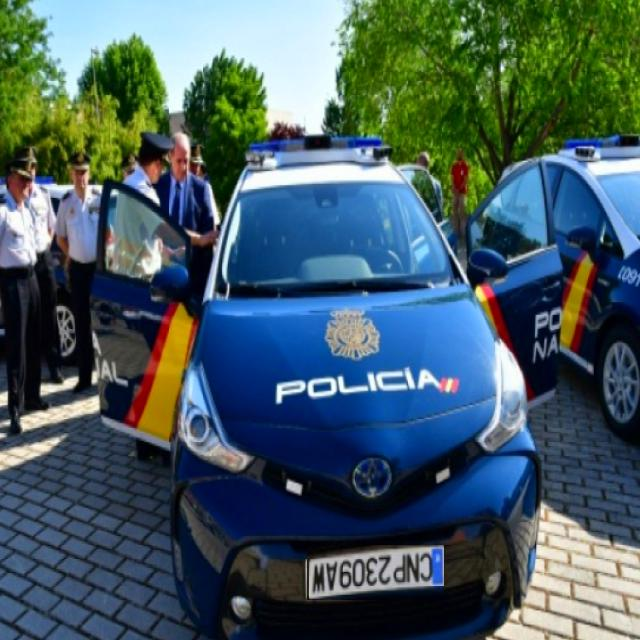License-Plate: (306, 544, 444, 600)
